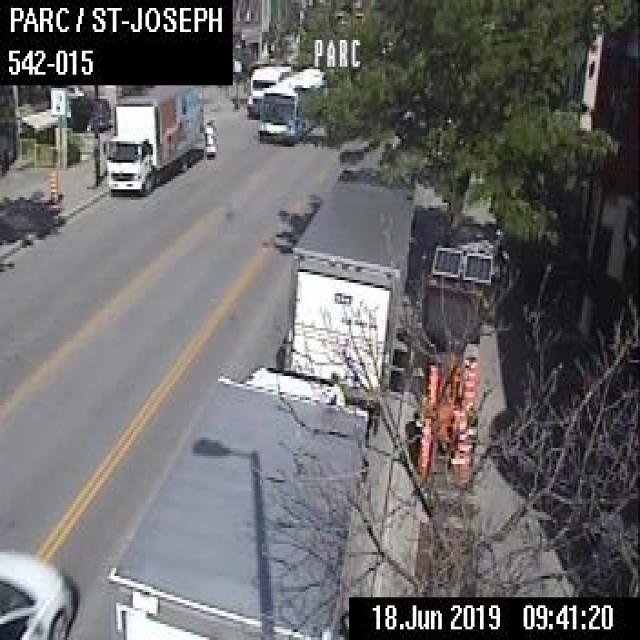bus: (257, 67, 326, 144)
construction: (410, 242, 492, 448), (448, 411, 469, 480), (456, 351, 476, 414), (422, 358, 437, 418), (415, 418, 431, 472), (46, 168, 58, 203)
vehicle: (104, 367, 366, 638), (275, 164, 413, 425), (102, 85, 204, 193), (0, 544, 78, 637), (245, 63, 291, 118), (67, 95, 109, 129), (64, 81, 84, 98)
